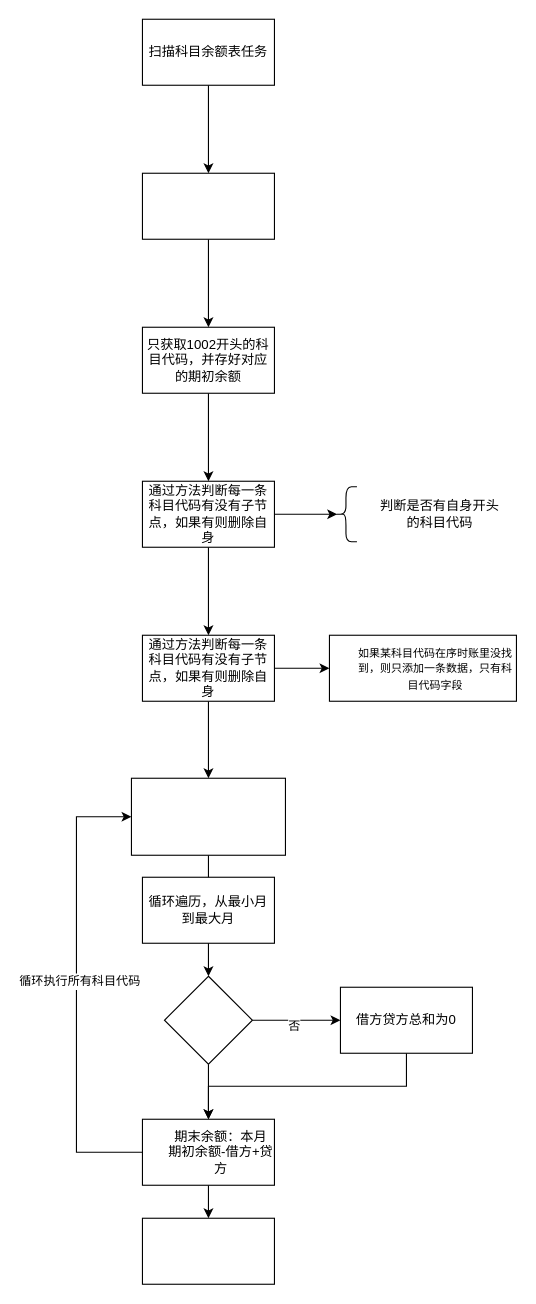
Some shapes in this 536 by 1304 pixel diagram are drawn without their labels. The shapes that lost their labels are listed below. From the top down, each one's centre as x and y in pixels, then its label:
the point at 207,205: 读取文件
the point at 207,816: 按科目代码、年、月、科目名称、账套主题分组，取每个月的借方总和和贷方总和
the point at 207,1019: 是否遍历到的月份有借方贷方总和
the point at 207,1250: 完成任务
